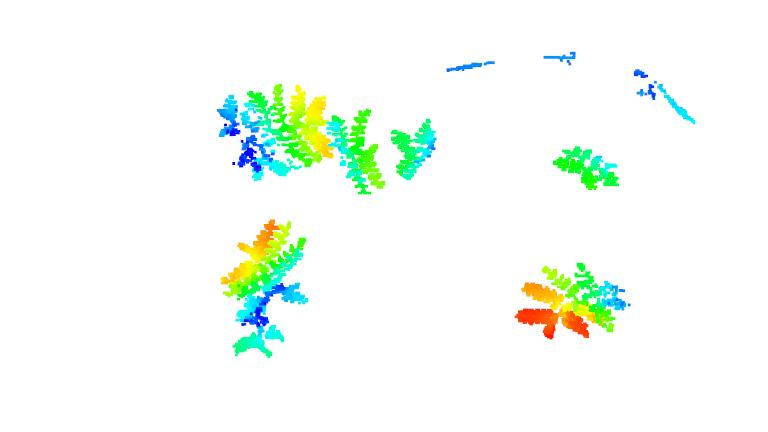chickpea: (222, 216, 306, 359), (220, 82, 336, 183), (512, 259, 632, 347), (328, 107, 388, 198), (551, 145, 621, 195), (390, 116, 437, 181)
